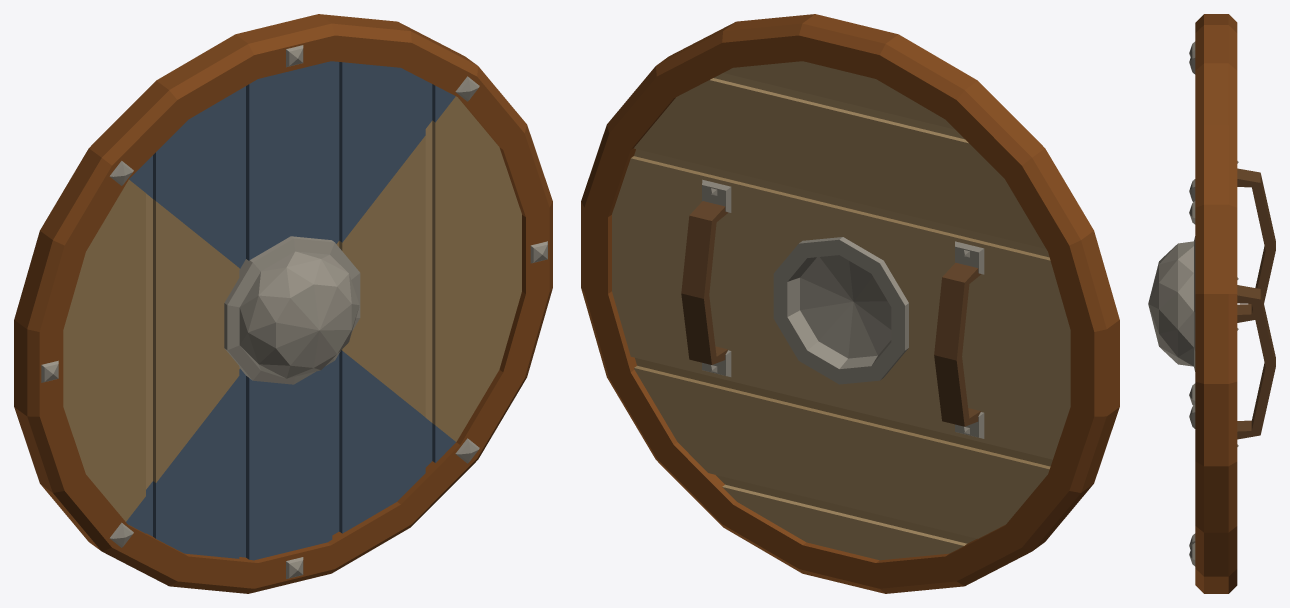
The model's file is round-wooden-shield-b81fe3.glb.
3 renders of one model, left to right at view 1: azimuth 30°, elevation 25°; view 2: azimuth 150°, elevation 25°; view 3: azimuth 270°, elevation 25°, orthographic. The views are drawn at different scales.
Parts seen in each view (by area): view 1: shield; view 2: shield; view 3: shield.
Boxes of the visible parts, <box> form: shield: <box>14,14,552,593</box>; shield: <box>581,14,1119,593</box>; shield: <box>1148,14,1275,593</box>.
Size of the model in its own units: 0.7902 by 0.7902 by 0.176.
